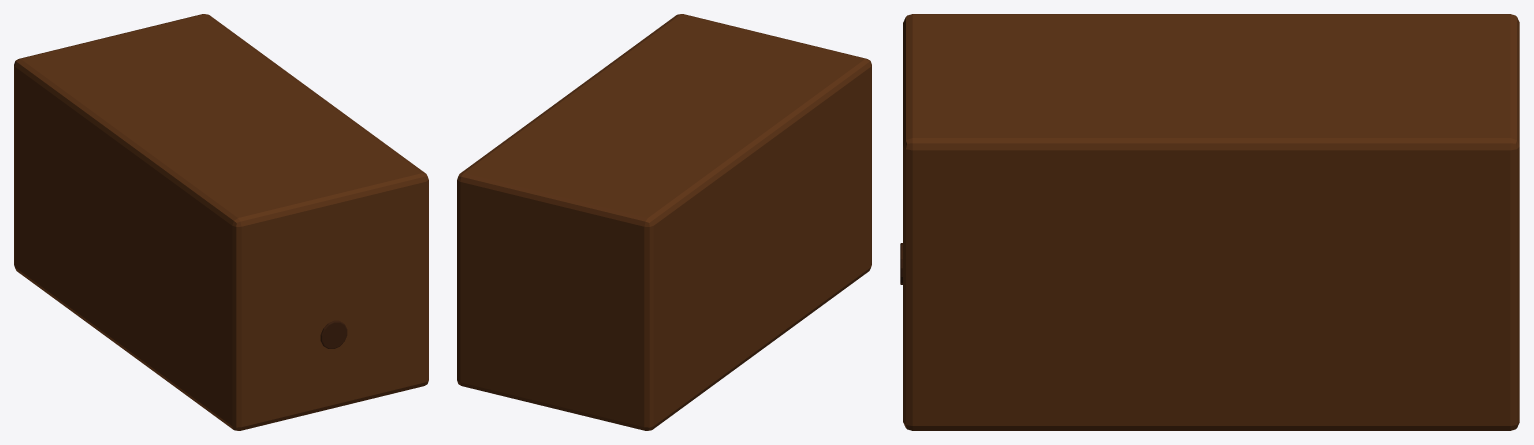
File: battering_ram_LOD1.glb
3 renders of one model, left to right at view 1: azimuth 30°, elevation 25°; view 2: azimuth 150°, elevation 25°; view 3: azimuth 270°, elevation 25°, orthographic. The views are drawn at different scales.
Visible parts, largest first — view 1: LOD1_RamBody, LOD1_RamBeam; view 2: LOD1_RamBody; view 3: LOD1_RamBody.
Boxes of the visible parts, x1=… form: LOD1_RamBody: x1=14, y1=14, x2=428, y2=430; LOD1_RamBeam: x1=320, y1=320, x2=347, y2=348; LOD1_RamBody: x1=457, y1=14, x2=871, y2=430; LOD1_RamBody: x1=903, y1=14, x2=1519, y2=430.
Bounding box in the file's own units: 2.65 × 2.75 × 5.28.
